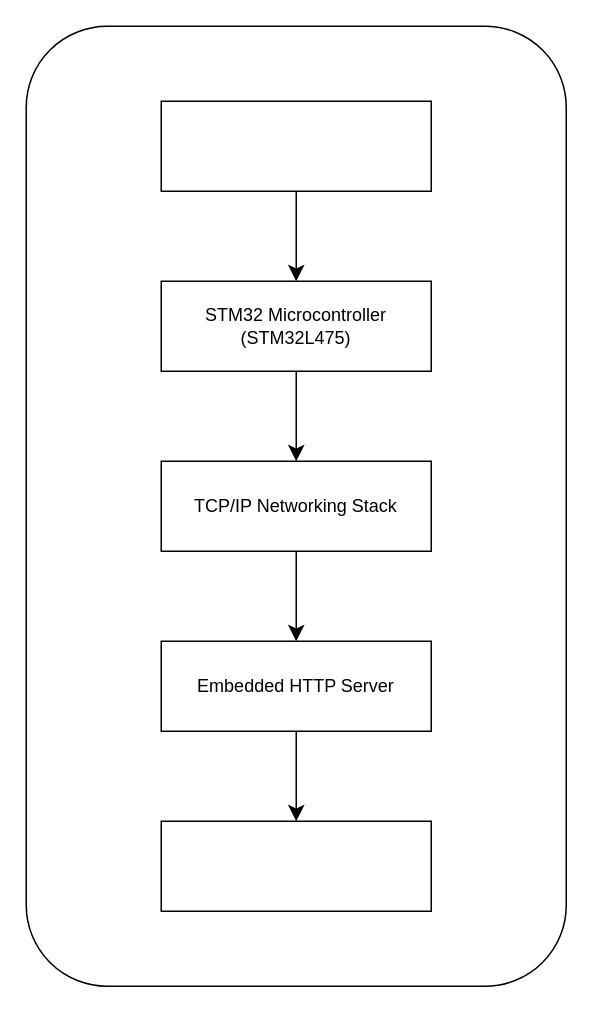
Some shapes in this 593 by 1013 pixel diagram are drawn without their labels. Here are the shapes that lost their labels. From the top down, the box of each, then its label:
(160, 100, 431, 191): Temperature / Humidity Sensor
(160, 820, 431, 911): Web Browser Client
